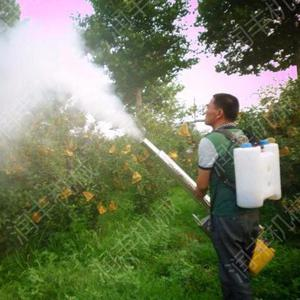berrl: (231, 136, 286, 212)
